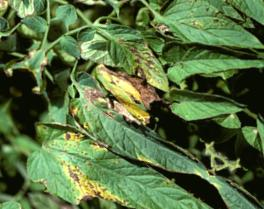Tomato leaf bacterial spot: (55, 73, 217, 203), (8, 100, 193, 209), (147, 0, 264, 89), (86, 11, 192, 99)
